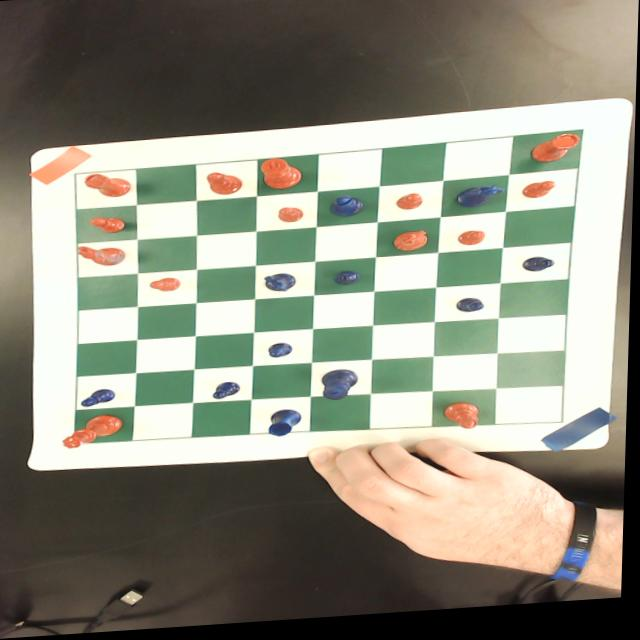B: (331, 198, 366, 222)
K: (323, 373, 362, 405)
N: (455, 190, 508, 214), (265, 276, 300, 296)
P: (82, 389, 117, 409), (523, 262, 558, 280), (214, 384, 243, 402), (457, 303, 487, 318), (269, 345, 295, 362), (335, 274, 361, 291)
R: (270, 411, 306, 441)
b: (446, 407, 484, 437), (206, 172, 245, 198)
cb: (76, 137, 584, 445)
k: (260, 159, 304, 194)
n: (78, 244, 130, 269), (393, 234, 434, 257)
p: (89, 216, 128, 236), (523, 186, 559, 206), (149, 278, 184, 294), (458, 235, 488, 253), (397, 197, 425, 215), (277, 210, 306, 226)
q: (65, 414, 126, 450)
r: (528, 139, 587, 174), (83, 172, 133, 201)
